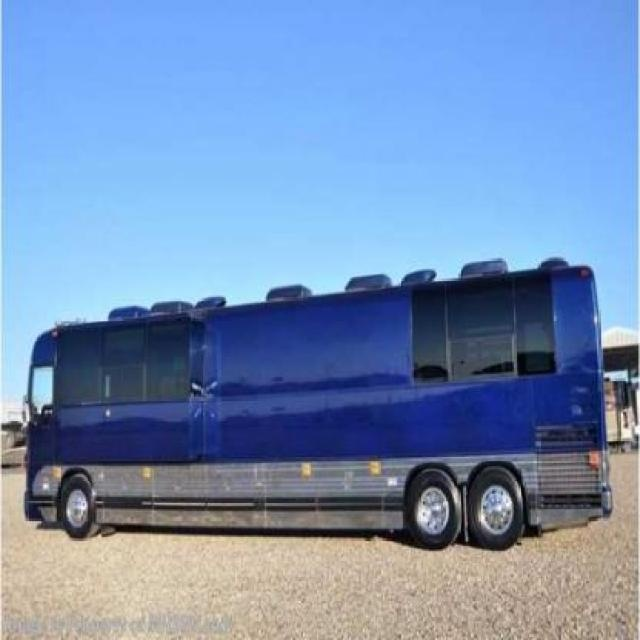Bus: (22, 252, 604, 542)
